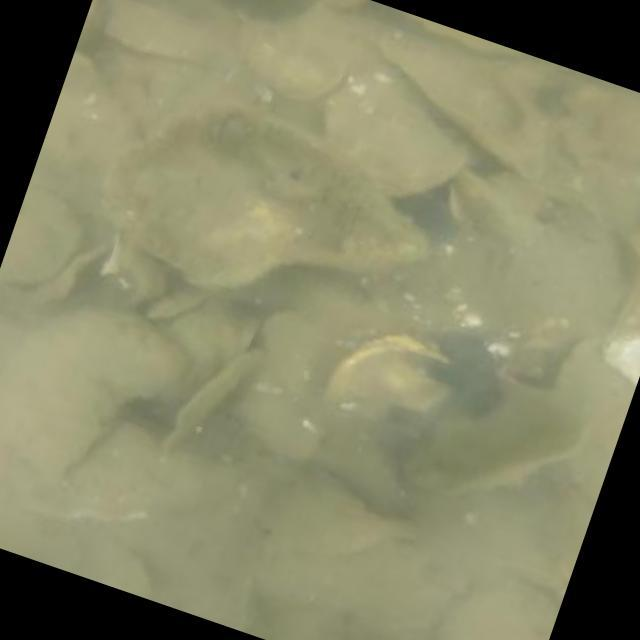Oyster- Indeterminate: (0, 307, 189, 482), (325, 71, 472, 193), (252, 465, 397, 552), (327, 337, 448, 418), (0, 187, 83, 283), (441, 577, 559, 640)
